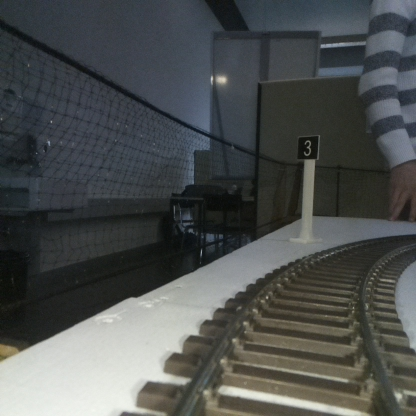black-info-3: (298, 135, 319, 243)
